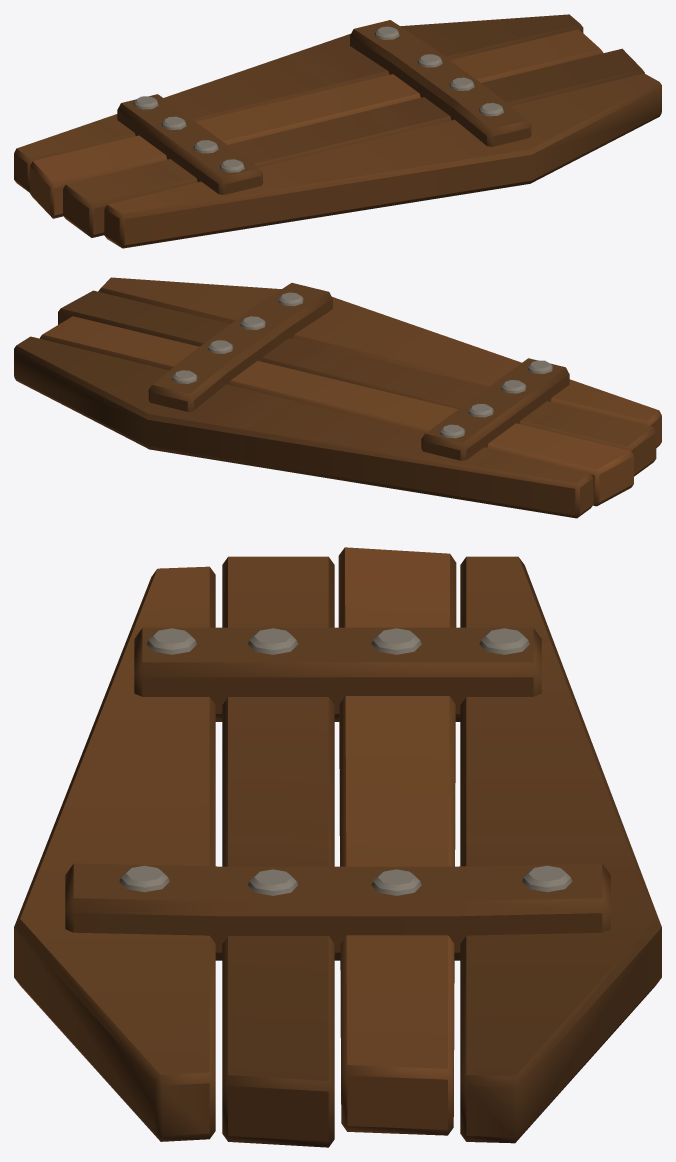
The model's file is Cofin_Lid_2_2.glb.
3 views of the same model, one above another, from view 1: azimuth 30°, elevation 25°; view 2: azimuth 150°, elevation 25°; view 3: azimuth 270°, elevation 25° (orthographic). The views are drawn at different scales.
Parts seen in each view (by area): view 1: Cofin_Lid_2_2; view 2: Cofin_Lid_2_2; view 3: Cofin_Lid_2_2.
Boxes of the visible parts, bbox=[...] form: Cofin_Lid_2_2: bbox=[14, 14, 661, 248]; Cofin_Lid_2_2: bbox=[14, 277, 661, 518]; Cofin_Lid_2_2: bbox=[14, 547, 661, 1147].
Size of the model in its own units: 1.36 by 0.1265 by 0.6911.
Materials: 2 (2 with a texture image).
